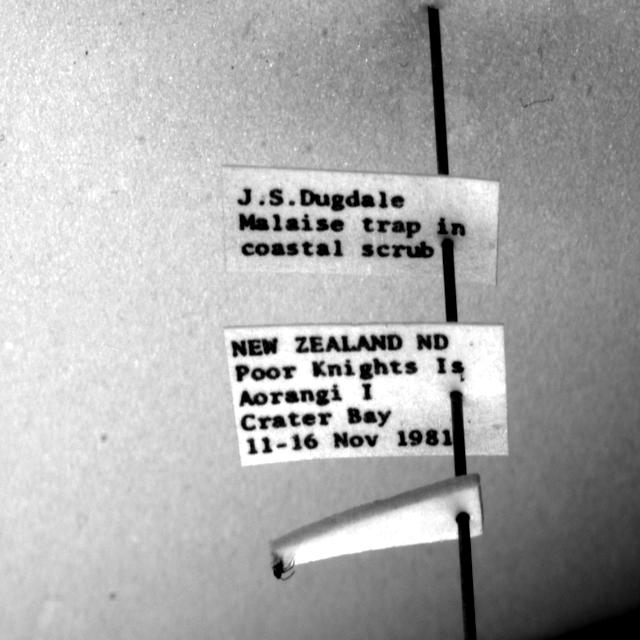typed_label: (224, 322, 509, 465), (222, 167, 499, 285)
